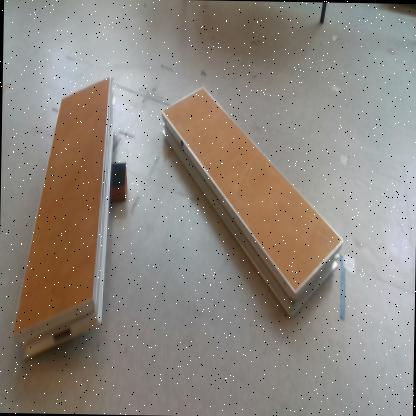Stairs: (162, 87, 346, 320), (11, 76, 116, 368)
